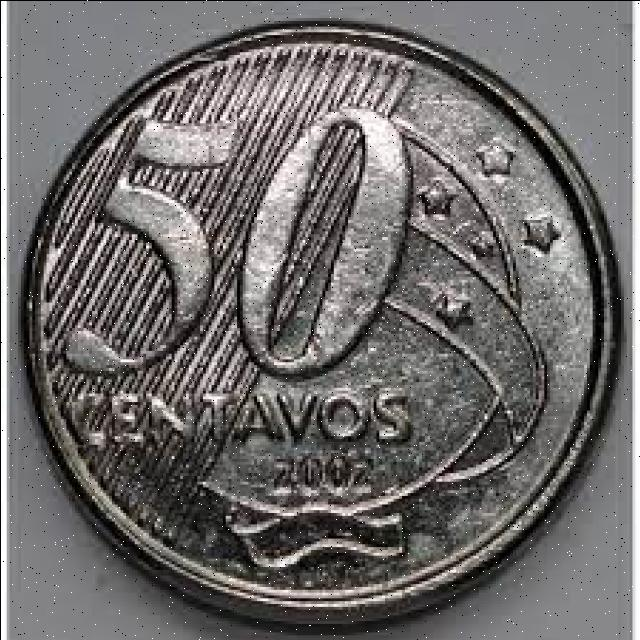50 cent: (22, 18, 621, 624)
